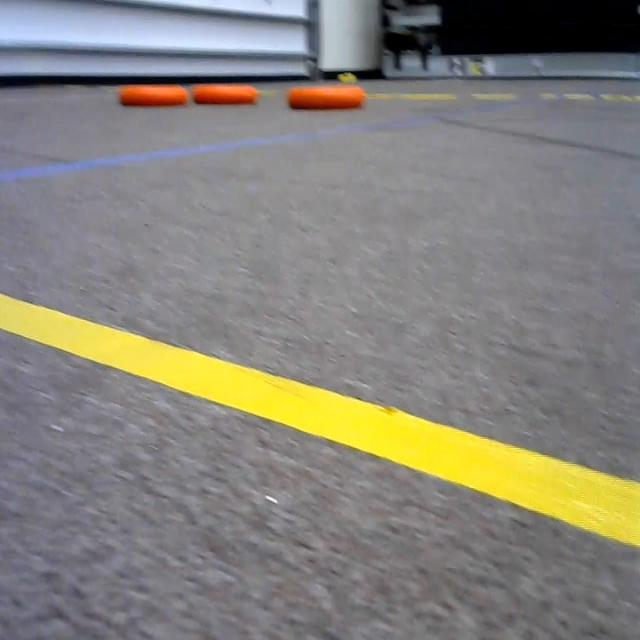note: (114, 70, 191, 115), (286, 76, 373, 110), (190, 73, 266, 110)
